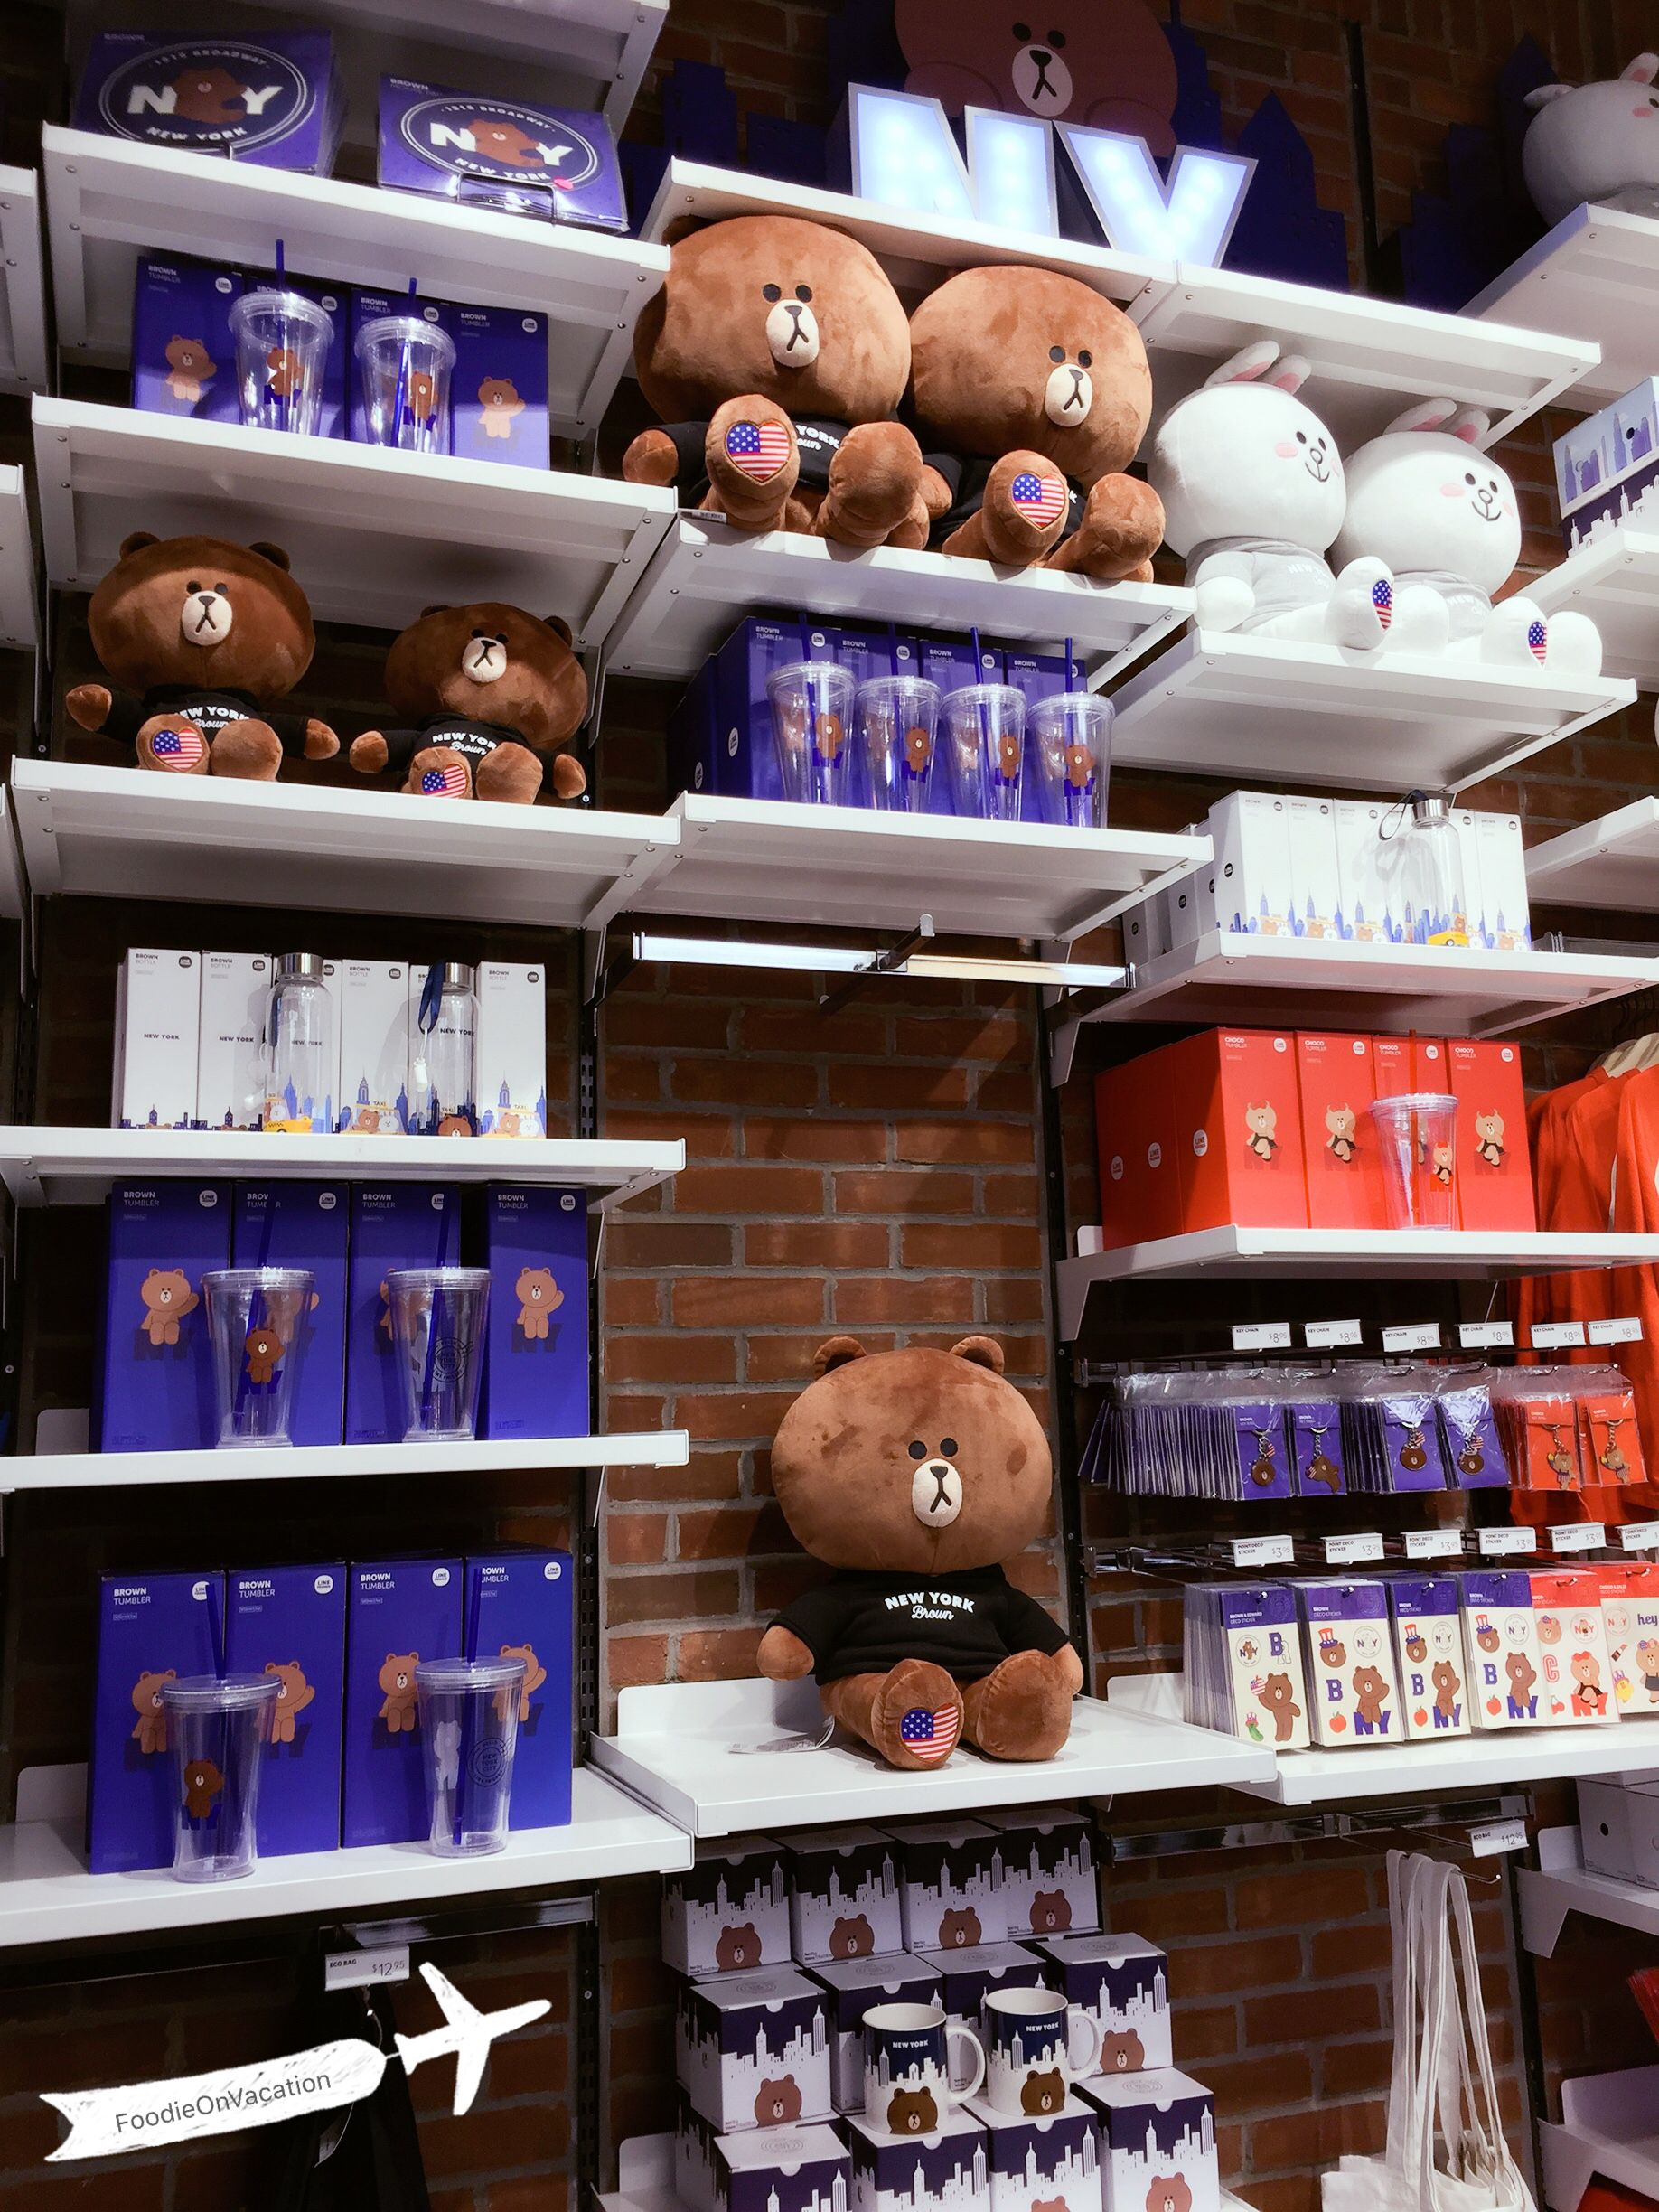line_brown: (756, 1318, 1089, 1580), (627, 204, 938, 444), (885, 242, 1175, 496), (68, 507, 326, 730)
